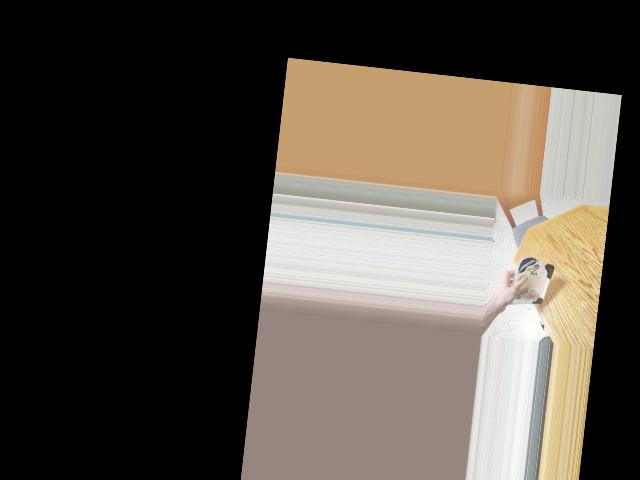cheese: (506, 253, 552, 316)
